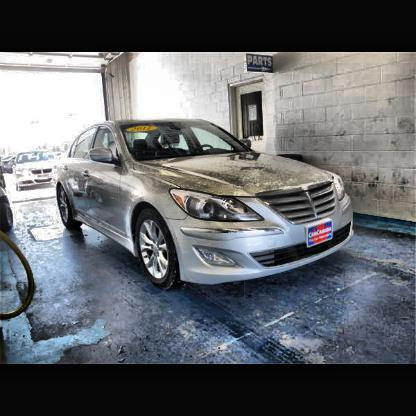Hyundai Genesis Sedan 2012: (52, 114, 359, 298)
